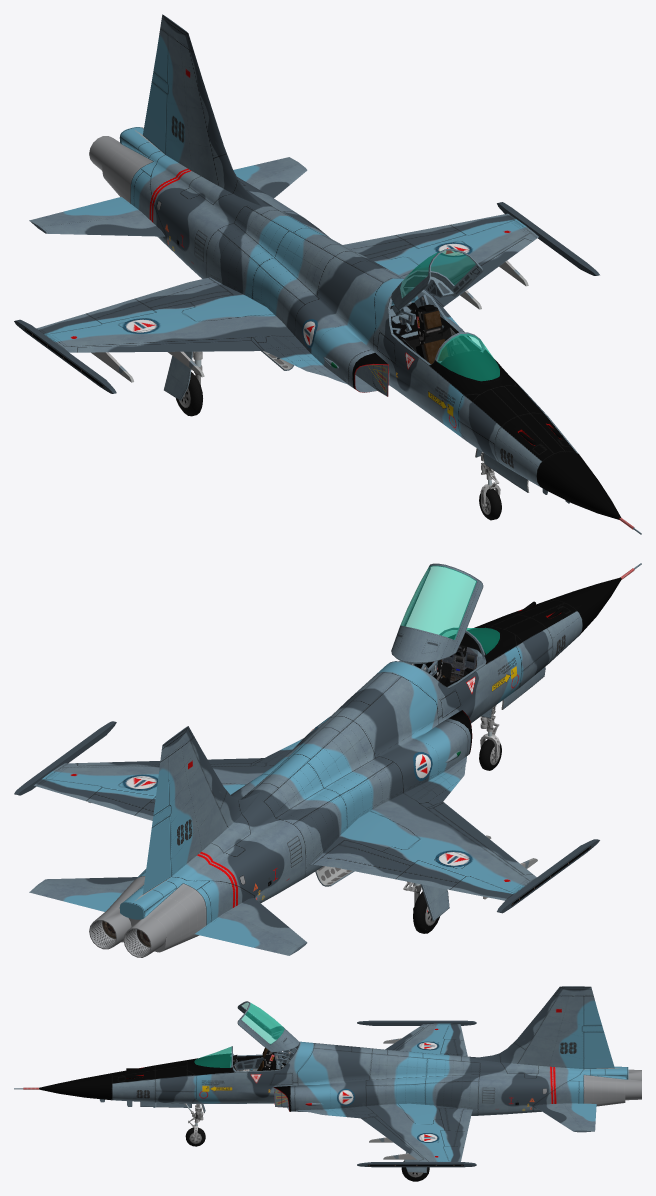
File: Copilot3D-58781964-f4e9-4509-ace1-49f367749627.glb
3 views of the same model, one above another, from view 1: azimuth 30°, elevation 25°; view 2: azimuth 150°, elevation 25°; view 3: azimuth 270°, elevation 25° (orthographic). The views are drawn at different scales.
Parts seen in each view (by area): view 1: Cylinder001, Object054_Northrop F-5_0, Object001_Northrop F-5_0, glass, Object026_Northrop F-5_0, Object053_Northrop F-5_0, Object055_Northrop F-5_0, Object058_Northrop F-5_0, Object025_glass_0, Object024_Northrop F-5_0, Object028_Northrop F-5_0, Object056_Northrop F-5_0 (+4 smaller); view 2: Cylinder001, Object025_glass_0, Object054_Northrop F-5_0, Object001_Northrop F-5_0, Object053_Northrop F-5_0, Object026_Northrop F-5_0, Object058_Northrop F-5_0, Object056_Northrop F-5_0, Object027_Northrop F-5_0, Object055_Northrop F-5_0, Object024_Northrop F-5_0, Object052_Northrop F-5_0 (+3 smaller); view 3: Cylinder001, Object026_Northrop F-5_0, Object001_Northrop F-5_0, Object053_Northrop F-5_0, Object025_glass_0, Object028_Northrop F-5_0, Object024_Northrop F-5_0, glass, Object057_Northrop F-5_0, Object027_Northrop F-5_0, Object056_Northrop F-5_0.
Part boxes in pixels (left/top/right/bottom): Cylinder001: left=14, top=14, right=641, bottom=534; Object054_Northrop F-5_0: left=29, top=197, right=164, bottom=236; Object001_Northrop F-5_0: left=391, top=249, right=483, bottom=332; glass: left=437, top=333, right=499, bottom=381; Object026_Northrop F-5_0: left=143, top=28, right=167, bottom=154; Object053_Northrop F-5_0: left=233, top=157, right=307, bottom=198; Object055_Northrop F-5_0: left=77, top=340, right=261, bottom=352; Object058_Northrop F-5_0: left=135, top=278, right=232, bottom=309; Object025_glass_0: left=400, top=250, right=475, bottom=298; Object024_Northrop F-5_0: left=479, top=452, right=501, bottom=520; Object028_Northrop F-5_0: left=343, top=235, right=414, bottom=258; Object056_Northrop F-5_0: left=86, top=298, right=155, bottom=323; Cylinder001: left=14, top=563, right=641, bottom=957; Object025_glass_0: left=400, top=565, right=476, bottom=639; Object054_Northrop F-5_0: left=194, top=898, right=307, bottom=955; Object001_Northrop F-5_0: left=391, top=563, right=483, bottom=675; Object053_Northrop F-5_0: left=29, top=877, right=137, bottom=911; Object026_Northrop F-5_0: left=142, top=756, right=171, bottom=894; Object058_Northrop F-5_0: left=313, top=840, right=414, bottom=879; Object056_Northrop F-5_0: left=396, top=860, right=465, bottom=889; Object027_Northrop F-5_0: left=86, top=787, right=155, bottom=815; Object055_Northrop F-5_0: left=433, top=802, right=532, bottom=874; Object024_Northrop F-5_0: left=479, top=705, right=501, bottom=770; Object052_Northrop F-5_0: left=403, top=881, right=439, bottom=933; Cylinder001: left=14, top=986, right=641, bottom=1167; Object026_Northrop F-5_0: left=584, top=996, right=614, bottom=1069; Object001_Northrop F-5_0: left=237, top=1001, right=299, bottom=1067; Object053_Northrop F-5_0: left=534, top=1103, right=596, bottom=1132; Object025_glass_0: left=241, top=1002, right=284, bottom=1044; Object028_Northrop F-5_0: left=439, top=1108, right=472, bottom=1131; Object024_Northrop F-5_0: left=184, top=1103, right=205, bottom=1146; glass: left=194, top=1046, right=231, bottom=1067; Object057_Northrop F-5_0: left=361, top=1117, right=423, bottom=1160; Object027_Northrop F-5_0: left=440, top=1130, right=467, bottom=1146; Object056_Northrop F-5_0: left=440, top=1039, right=467, bottom=1055.
Bounding box in the file's own units: 8.23 × 4.27 × 15.26.
Materials: 2 (1 with a texture image).
